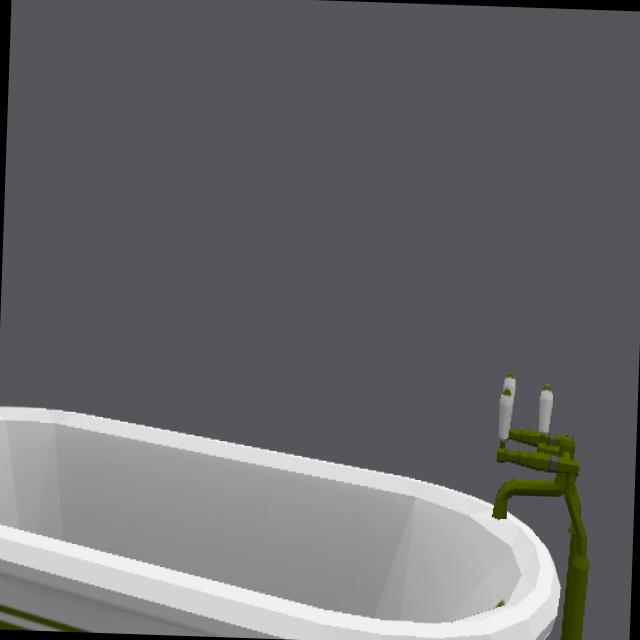bathtube: (0, 410, 559, 640)
